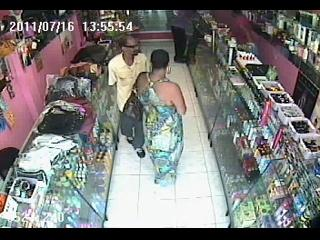Normal: (127, 49, 187, 187), (106, 36, 152, 158), (171, 11, 200, 64)
